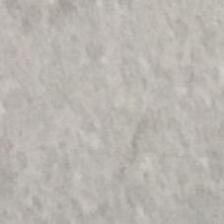Non_Crack: (19, 18, 195, 204)
